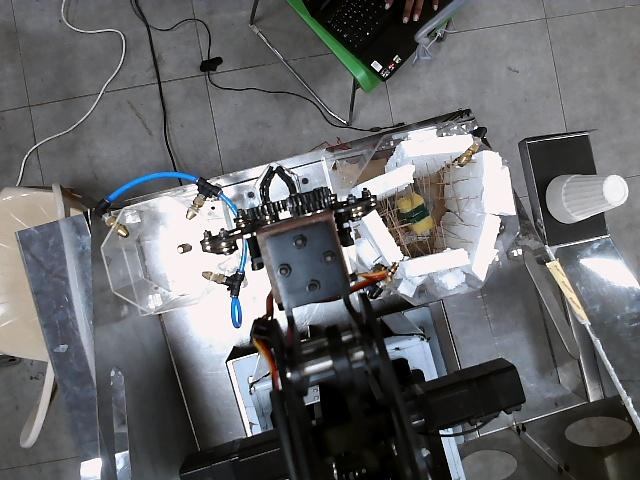cup: (546, 175, 627, 223)
